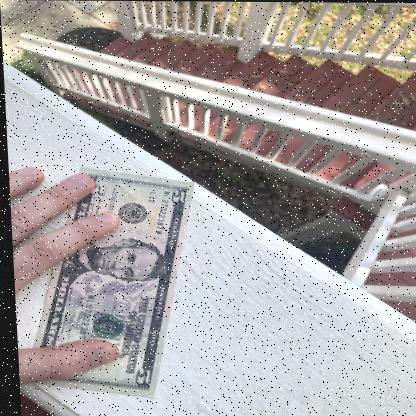five-front: (28, 162, 196, 401)
